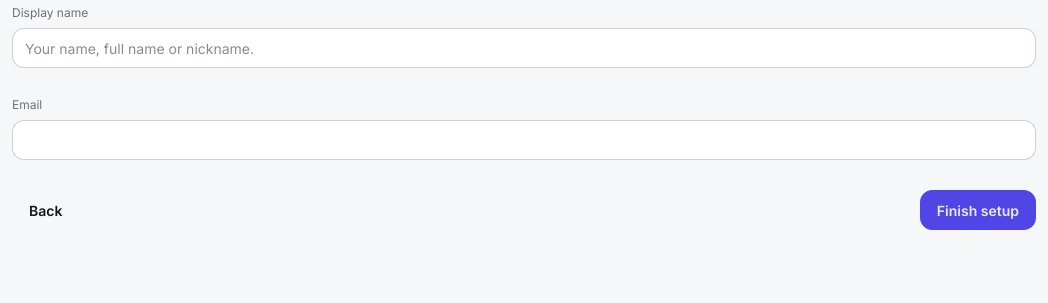
it: AC2: an empty field blocks the submit › clears one field s message without clearing the others
Click the button "Finish setup" at (978, 210), box x1=920 y1=190 x2=1036 y2=230
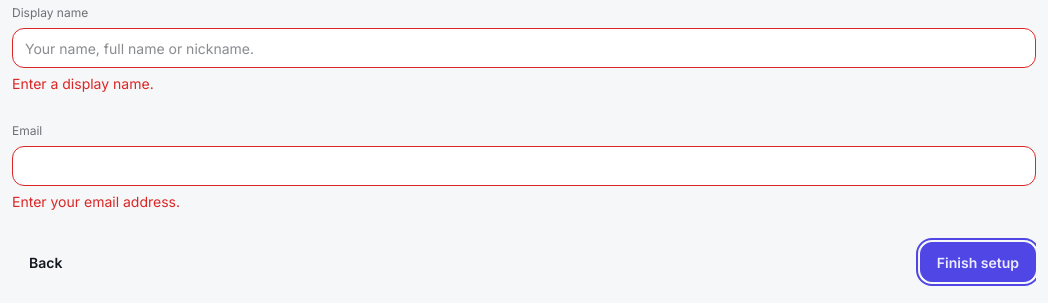
Type "Marko" into the field labelled "Display name" at (524, 48), box x1=12 y1=28 x2=1036 y2=68
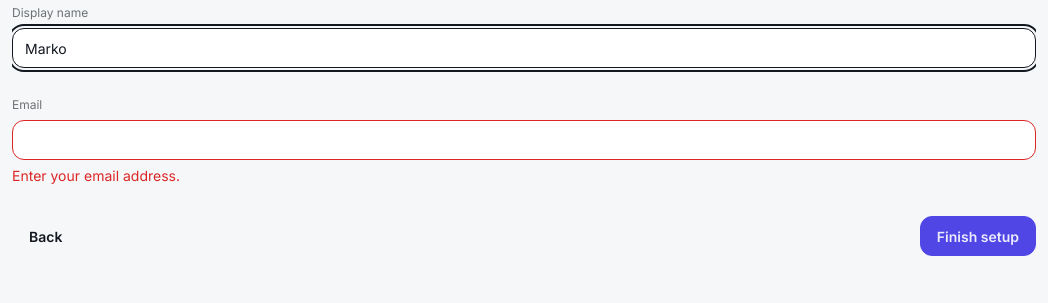
Result: the text "Enter your email address." is shown at x1=12 y1=167 x2=180 y2=184
Result: the text "Enter a display name." is gone
